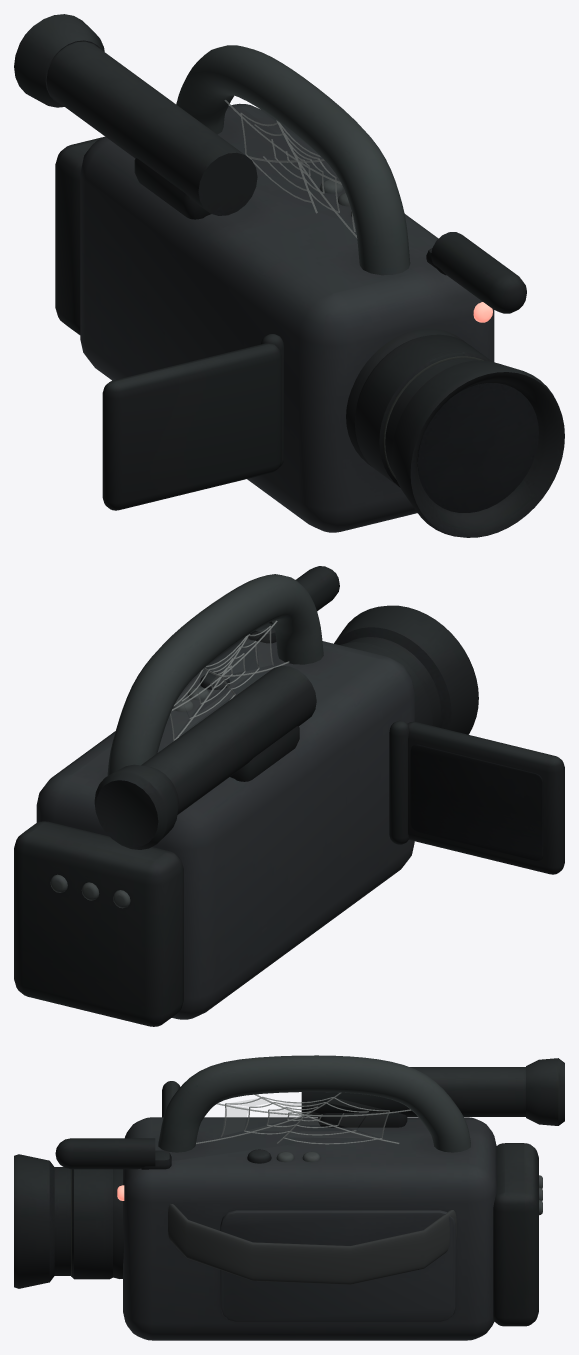
The model's file is old-camcorder.glb.
3 views of the same model, one above another, from view 1: azimuth 30°, elevation 25°; view 2: azimuth 150°, elevation 25°; view 3: azimuth 270°, elevation 25° (orthographic). The views are drawn at different scales.
Visible parts, largest first — view 1: old-camcorder_body, old-camcorder_screen, old-camcorder_web; view 2: old-camcorder_body, old-camcorder_screen, old-camcorder_web; view 3: old-camcorder_body, old-camcorder_web.
Part boxes in pixels (x1=…): old-camcorder_body: x1=14, y1=14, x2=564, y2=537; old-camcorder_screen: x1=102, y1=334, x2=283, y2=510; old-camcorder_web: x1=224, y1=100, x2=357, y2=238; old-camcorder_body: x1=14, y1=566, x2=478, y2=1026; old-camcorder_screen: x1=389, y1=720, x2=564, y2=874; old-camcorder_web: x1=170, y1=620, x2=289, y2=741; old-camcorder_body: x1=14, y1=1055, x2=564, y2=1340; old-camcorder_web: x1=196, y1=1092, x2=411, y2=1144.
Bounding box in the file's own units: 0.2152 × 0.1774 × 0.339.
5 materials, 2 textured.
